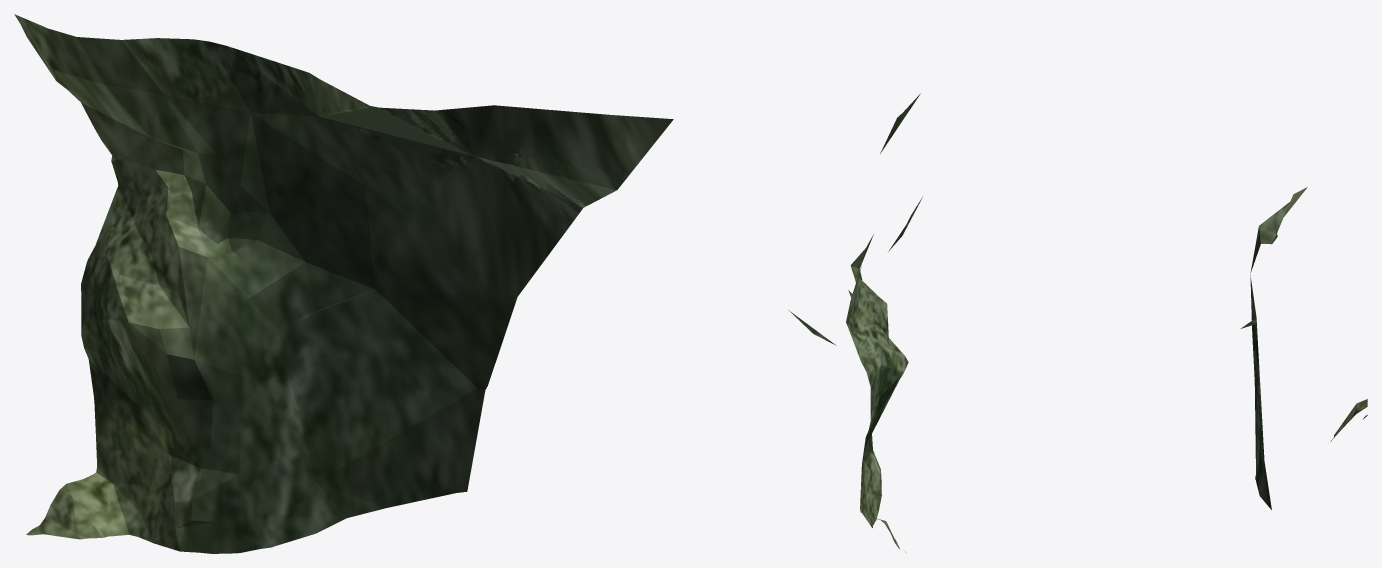
The picture shows the model from 3 angles, left to right: view 1: azimuth 30°, elevation 25°; view 2: azimuth 150°, elevation 25°; view 3: azimuth 270°, elevation 25°; orthographic projection. The views are drawn at different scales.
Bounding box in the file's own units: 2.28 × 2.95 × 2.78.
Materials: 2 (2 with a texture image).
